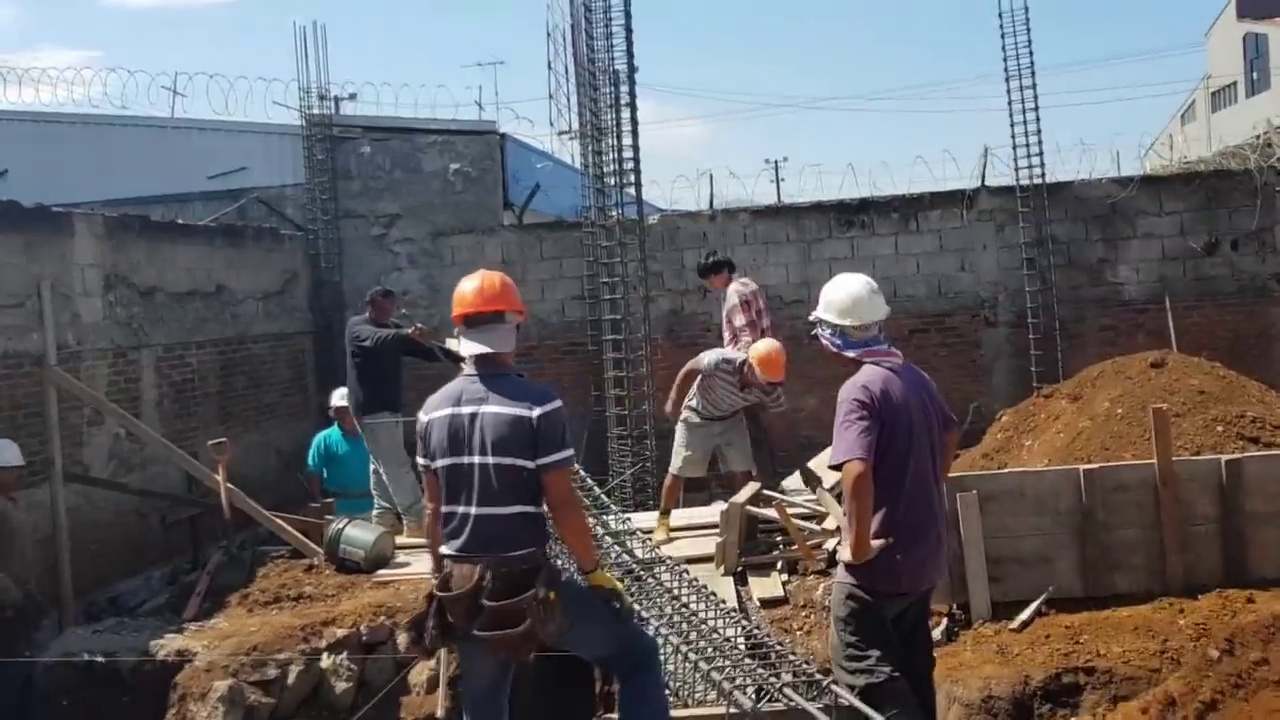helmet: (806, 269, 898, 327), (439, 269, 530, 322), (749, 337, 785, 383), (329, 386, 350, 412)
helmet-off: (696, 250, 738, 294), (357, 289, 401, 326)
helmet-on: (443, 271, 529, 382), (811, 273, 899, 362), (736, 336, 785, 395), (329, 389, 354, 428)
person: (404, 254, 629, 713), (811, 265, 958, 699), (652, 339, 788, 545), (355, 283, 450, 527), (301, 381, 376, 529), (691, 248, 768, 358)
